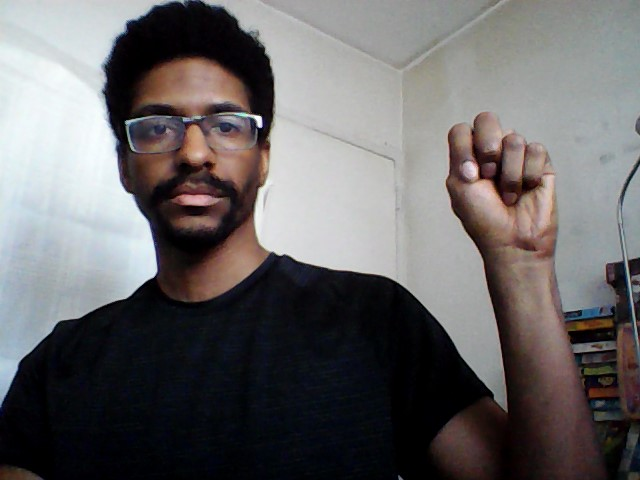n: (438, 103, 566, 263)
